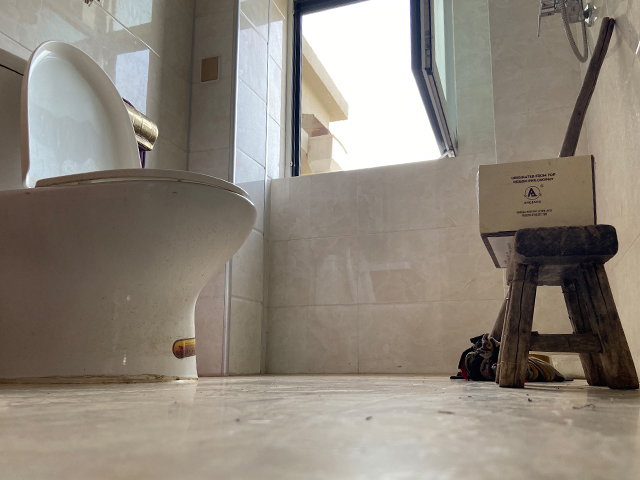closestool: (1, 39, 258, 386)
stool: (493, 224, 640, 391)
